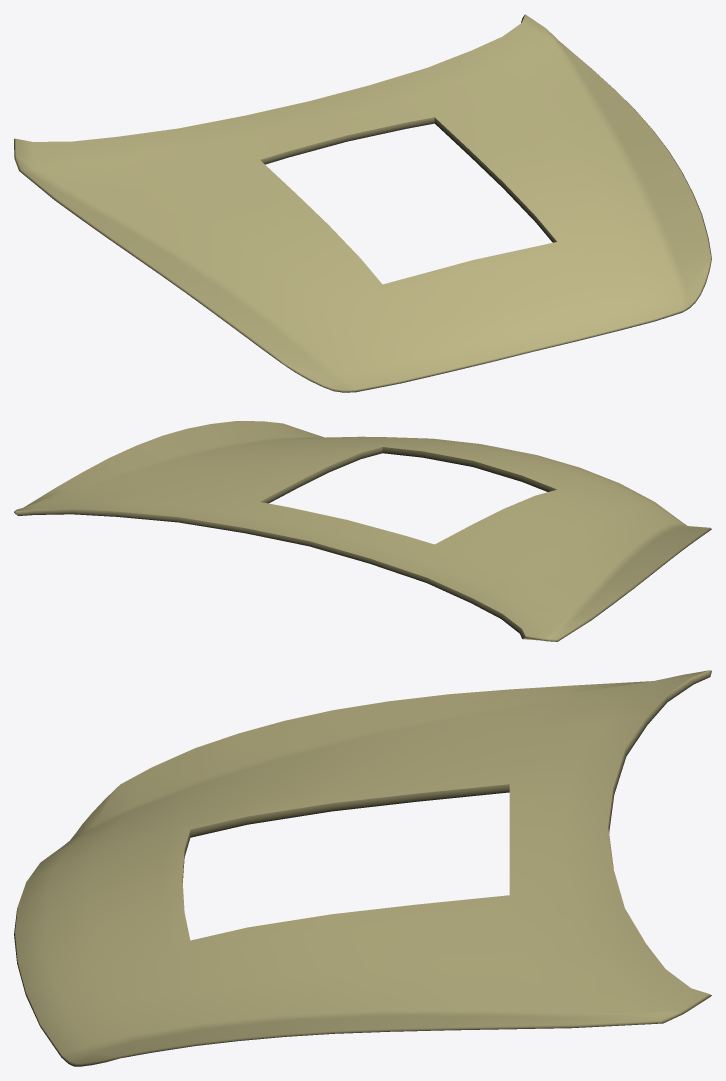
Rendered from G37_Hood_08_Duco.fbx.
3 views of the same model, one above another, from view 1: azimuth 30°, elevation 25°; view 2: azimuth 150°, elevation 25°; view 3: azimuth 270°, elevation 25° (orthographic). The views are drawn at different scales.
Visible parts, largest first — view 1: G37_Hood_08_Duco; view 2: G37_Hood_08_Duco; view 3: G37_Hood_08_Duco.
Boxes of the visible parts, x1,y1,x2,y2 form: G37_Hood_08_Duco: (14,14,711,392); G37_Hood_08_Duco: (14,421,711,641); G37_Hood_08_Duco: (14,670,711,1066).
Size of the model in its own units: 150 by 26.09 by 130.
